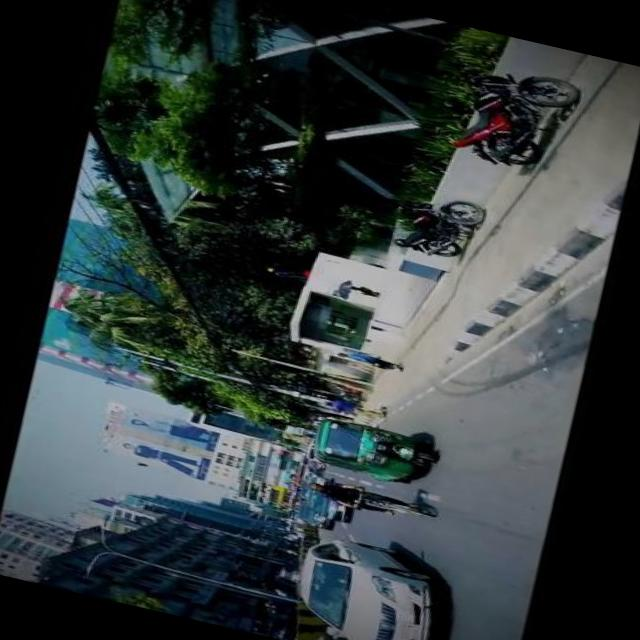car: (280, 530, 442, 640), (298, 488, 346, 522), (292, 508, 328, 530)
motorcycle: (444, 56, 580, 180), (304, 412, 438, 492), (392, 188, 484, 266), (271, 565, 298, 583)
